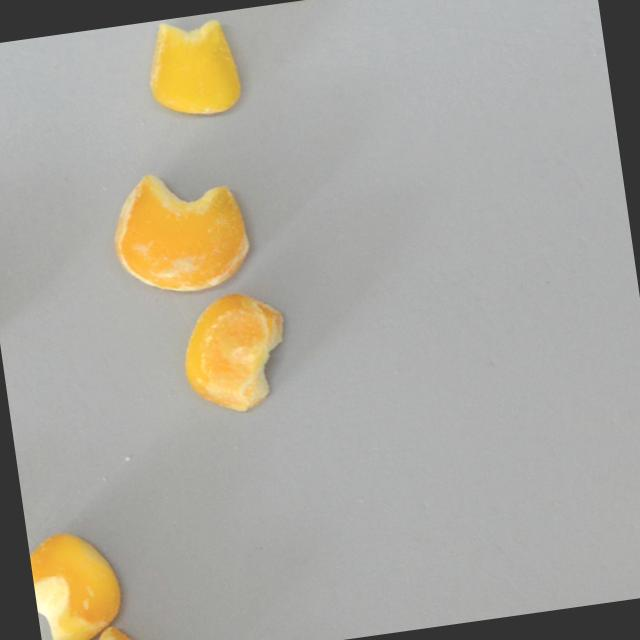pelicula: (101, 155, 260, 303), (170, 282, 301, 422), (136, 9, 250, 125), (27, 520, 131, 640), (41, 615, 167, 640)
